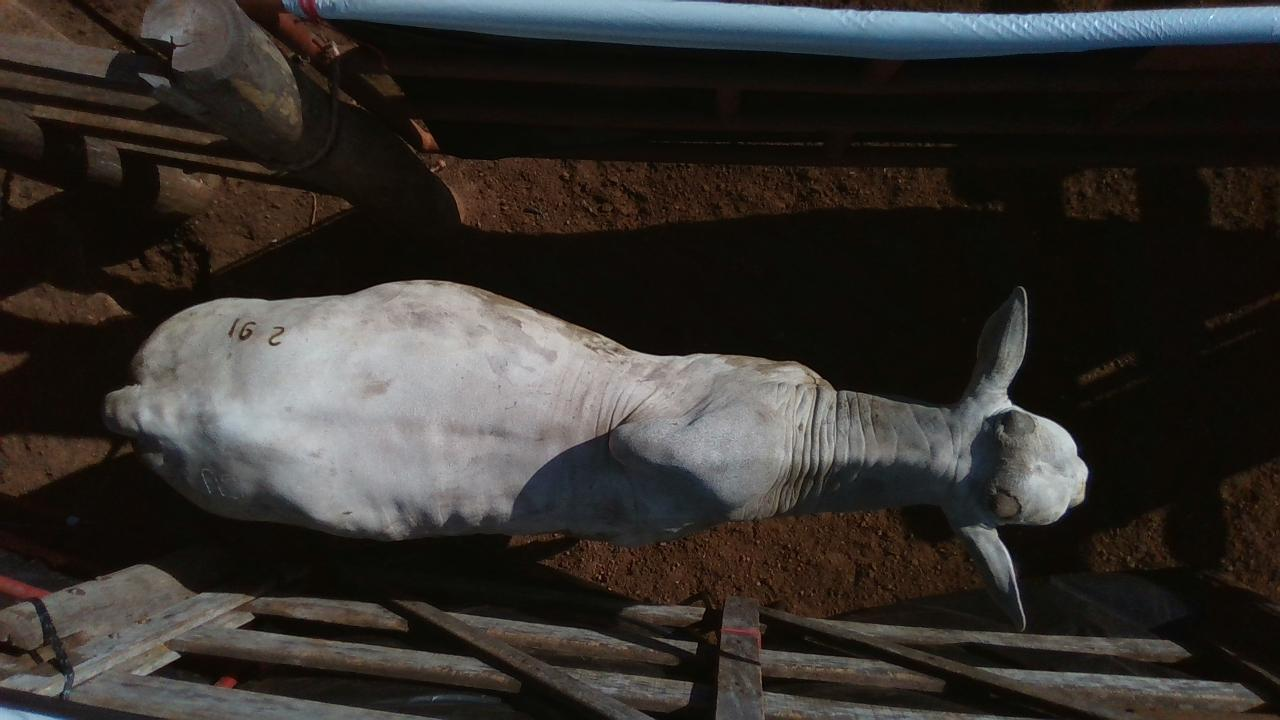cattle: (100, 275, 1090, 633)
